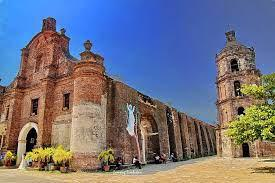Sta. Maria Church: (3, 17, 107, 170)
Unfinished Paint: (56, 105, 106, 153)
